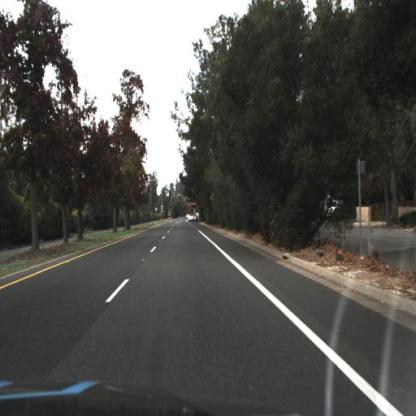car: (189, 215, 196, 223), (194, 215, 199, 223), (188, 215, 191, 219)
trafficLight-Red: (194, 203, 196, 209), (180, 194, 182, 200)
